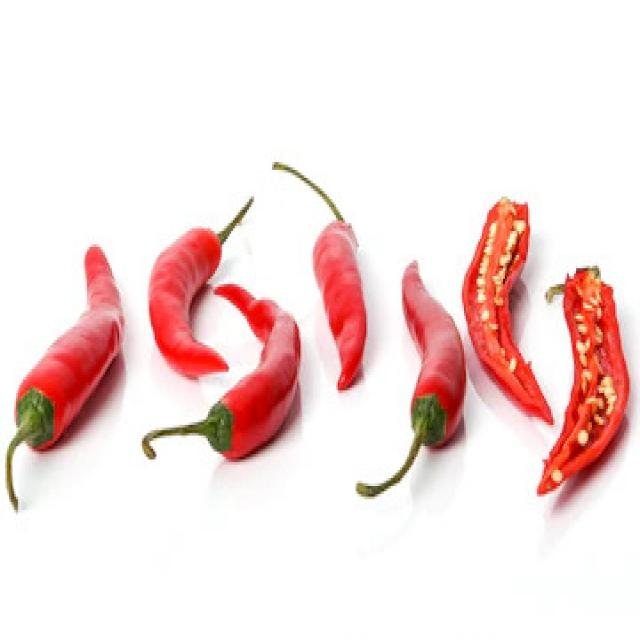red chili: (5, 247, 124, 511), (142, 284, 300, 459), (539, 268, 631, 497), (464, 199, 555, 424), (396, 263, 468, 482), (149, 228, 228, 378), (315, 215, 368, 390)
